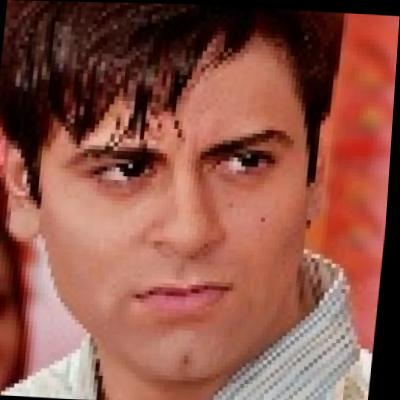angry: (34, 26, 326, 371)
